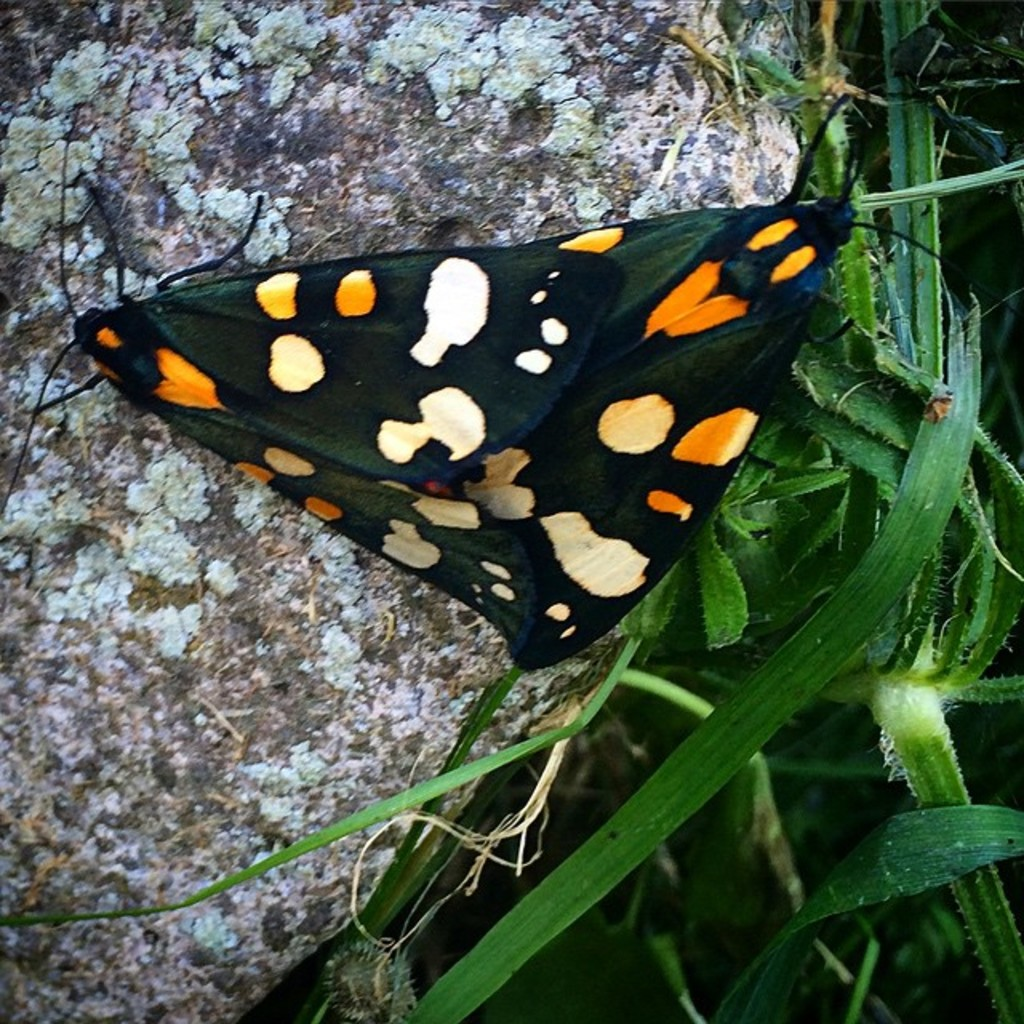Butterfly: (44, 160, 890, 667)
